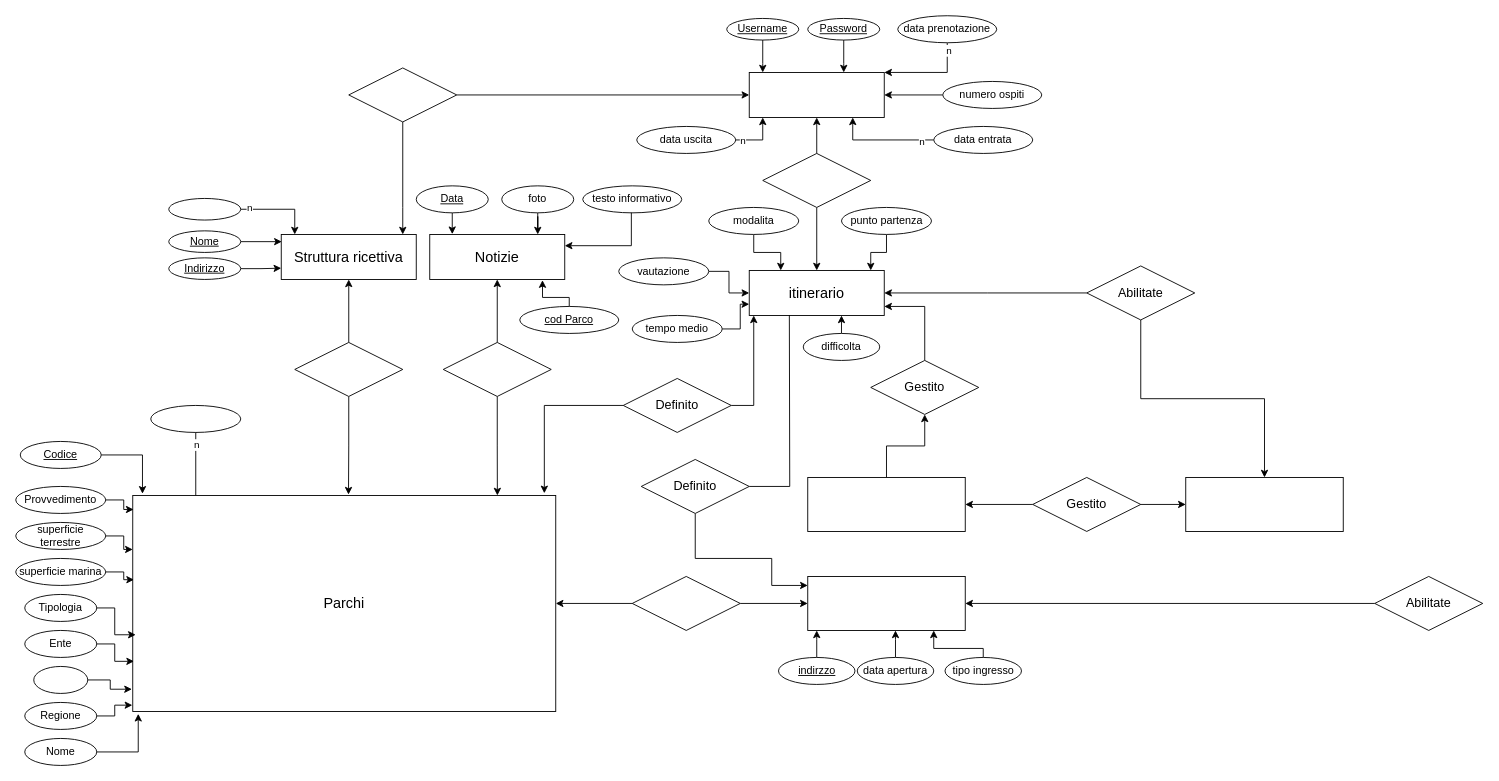
Some shapes in this 1499 by 781 pixel diagram are drawn without their labels. Each missing label, with the box of its shape:
Aggiornati: (442, 342, 551, 396)
Alloggia: (348, 67, 457, 122)
Centro Visite: (807, 576, 965, 630)
Ceritficazioni: (150, 405, 241, 432)
Contatti: (168, 198, 241, 220)
costa: (33, 666, 88, 693)
Effettuato: (762, 153, 871, 207)
Guida: (1185, 477, 1343, 531)
Situati: (294, 342, 403, 396)
Tour Guidato: (807, 477, 965, 531)
Visitatore: (748, 72, 884, 117)
visite: (631, 576, 740, 630)
